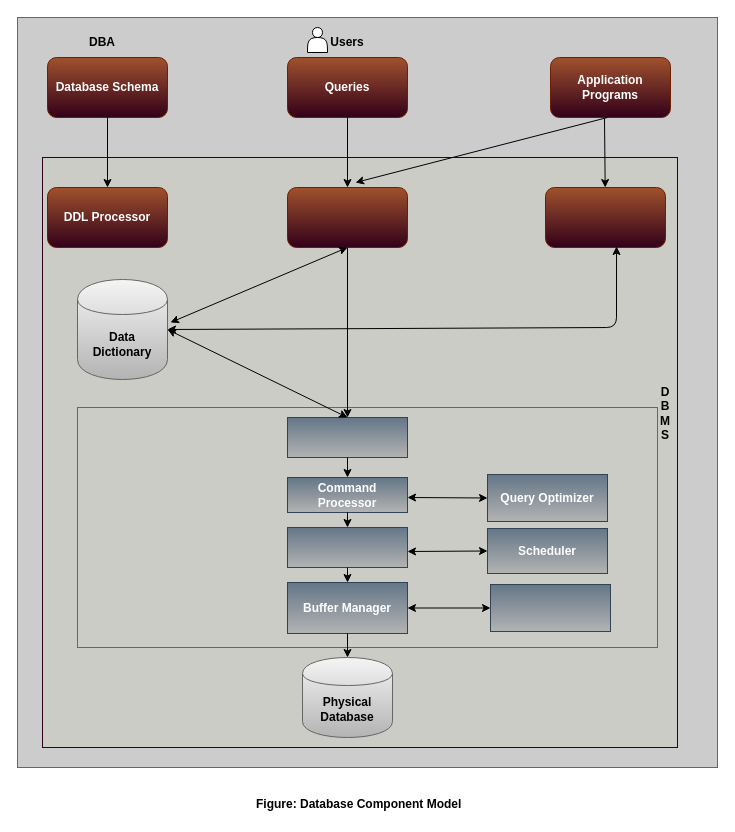
This 735x832 diagram has some shape labels left out. Each missing label, with the centre of its shape:
Authorization Control: point 347,437
DML Processor: point 605,217
Query Processor: point 347,217
Recovery Manager: point 550,608
Transaction Manager: point 347,547
